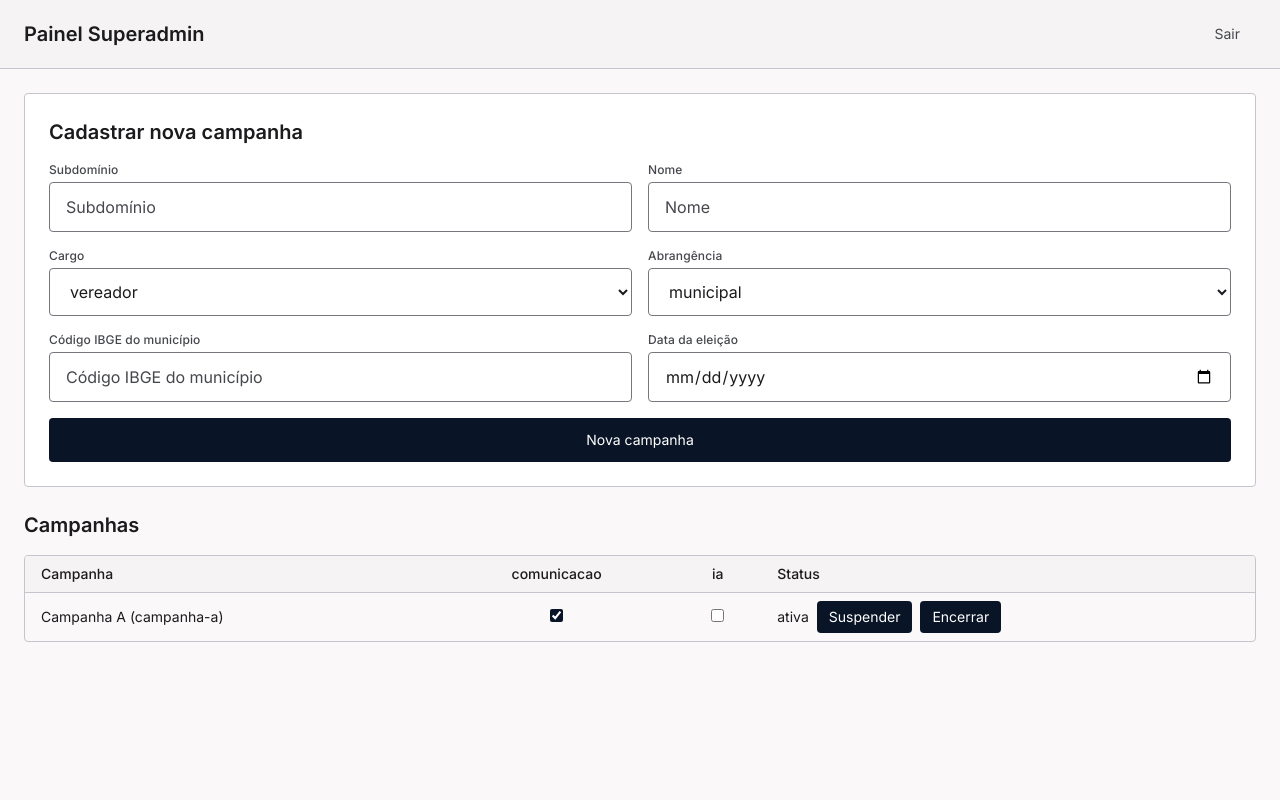
DashboardSuperadminClient › preencher e submeter o formulário de nova campanha dispara POST /api/superadmin/campanhas; sucesso adiciona a linha sem refetch
Expected: the text "Campanha A (campanha-a)" is shown, left=25, top=592, right=439, bottom=641
Type "campanha-nova" into the field with placeholder "Subdomínio" at coordinates (340, 207), box left=49, top=182, right=632, bottom=232
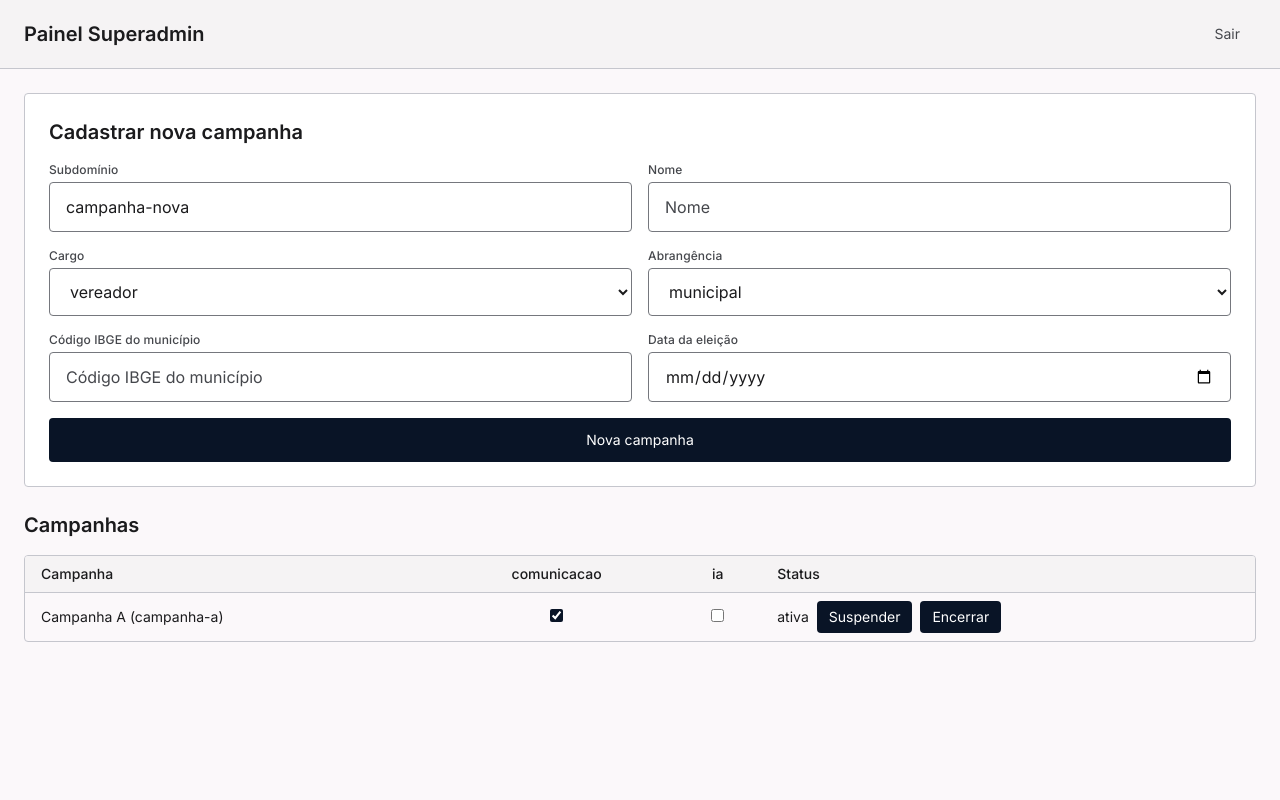
Type "Campanha Nova" into the field with placeholder "Nome" at coordinates (940, 207), box left=648, top=182, right=1231, bottom=232
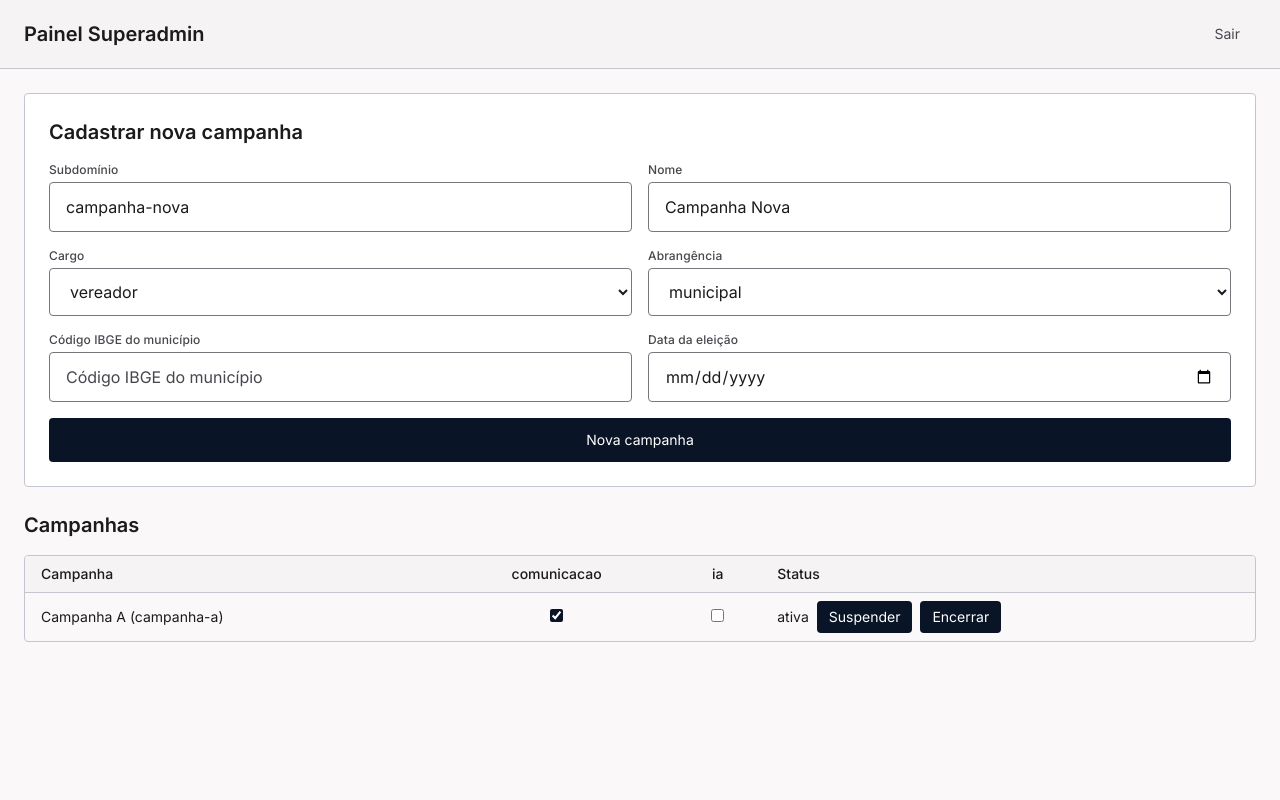
Type "2211001" into the number field with placeholder "Código IBGE do município" at coordinates (340, 377), box left=49, top=352, right=632, bottom=402
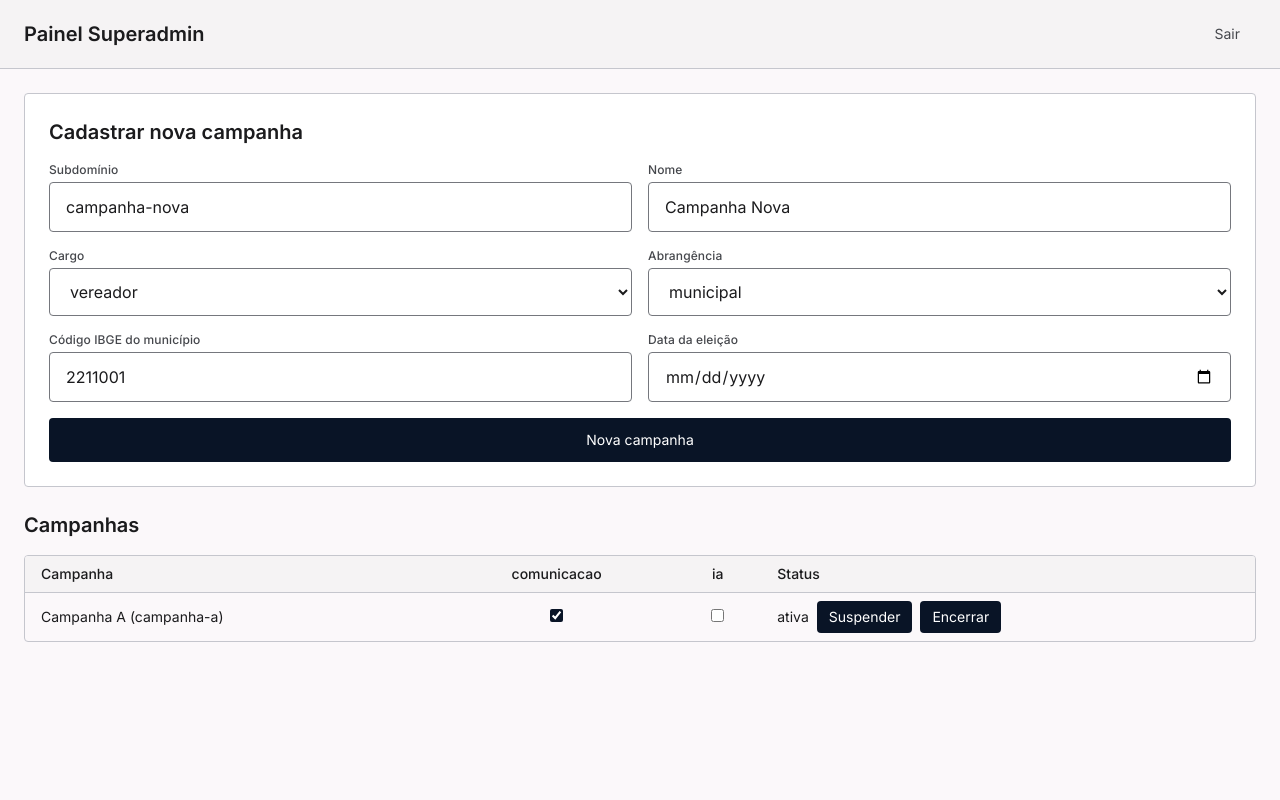
Type "2028-10-01" into the date field with placeholder "Data da eleição" at coordinates (940, 377), box left=648, top=352, right=1231, bottom=402
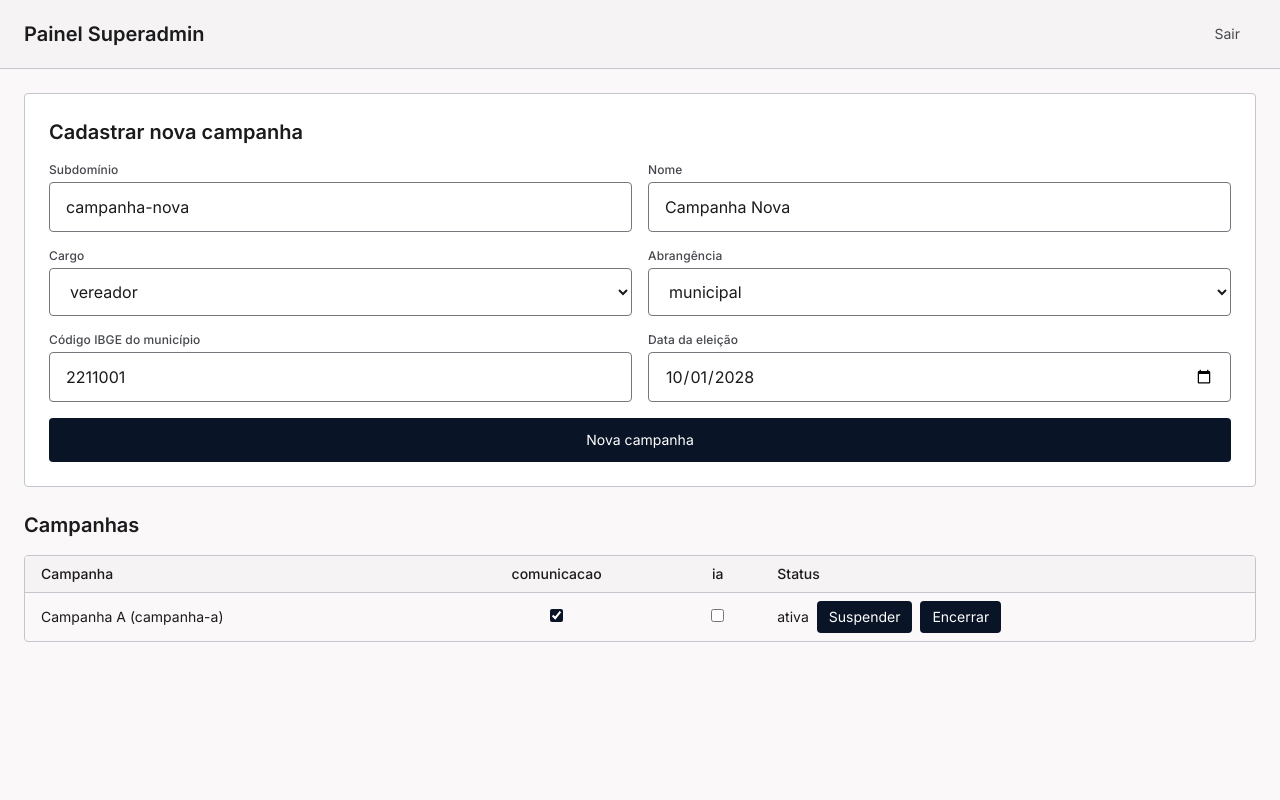
Click the button "Nova campanha" at coordinates (640, 440), box left=49, top=418, right=1231, bottom=462
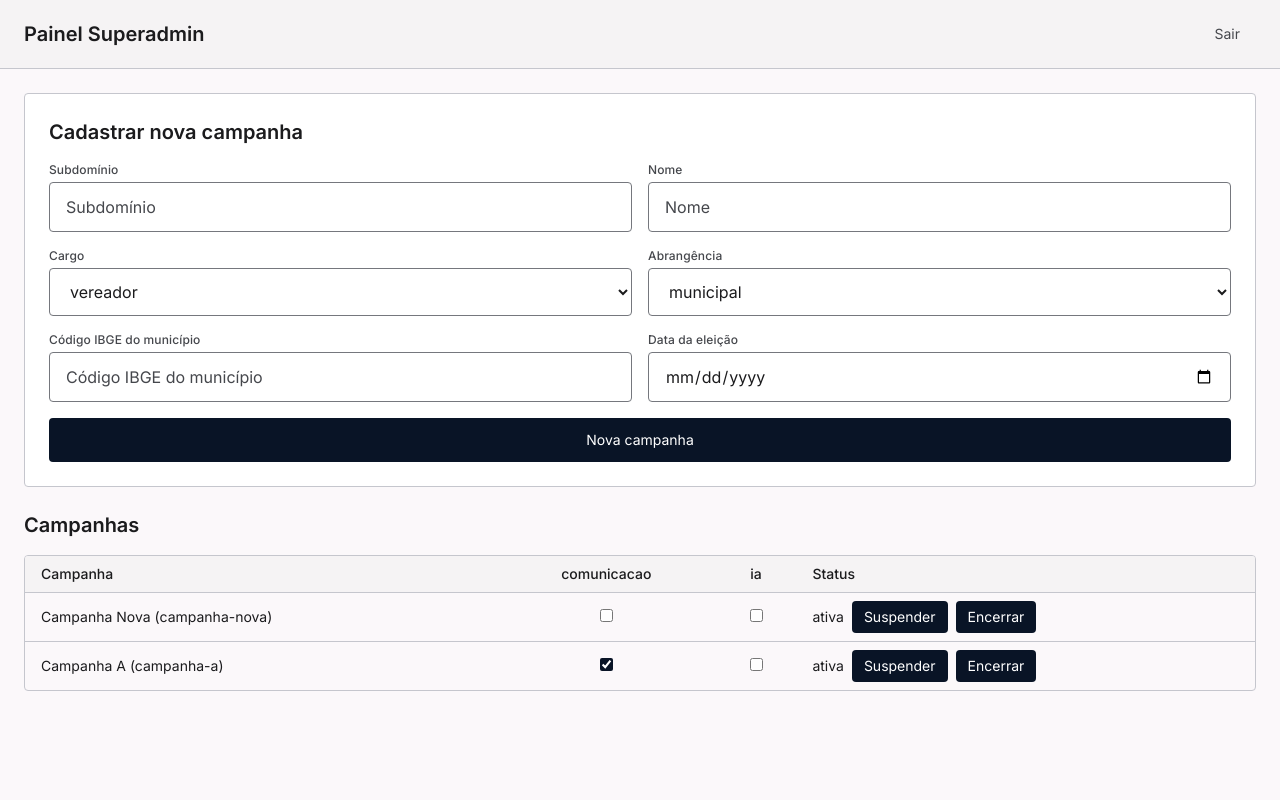
Now the text "Campanha Nova (campanha-nova)" is shown, box left=25, top=592, right=497, bottom=642
